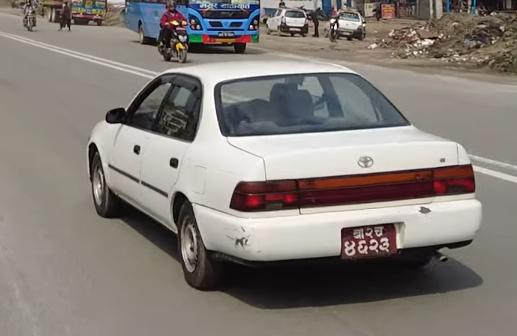bus: (110, 0, 266, 56)
car: (86, 49, 483, 281)
scooter: (158, 17, 190, 63)
taxi: (266, 6, 309, 39), (328, 7, 368, 40)
